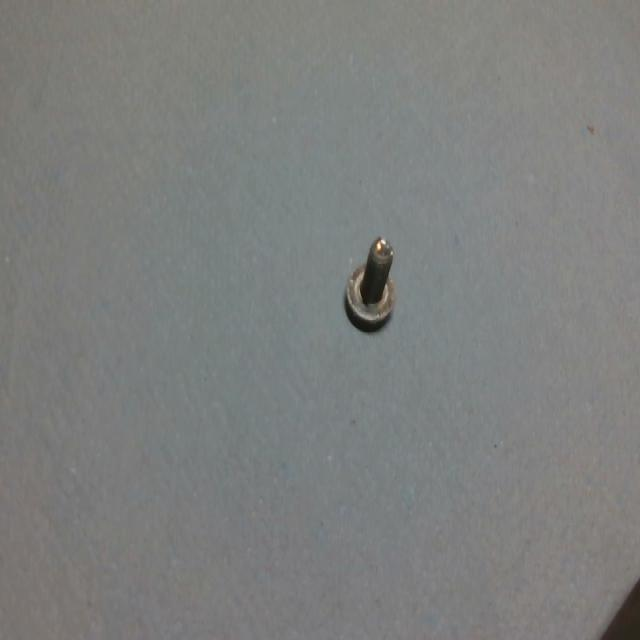Bolt: (343, 237, 396, 336)
